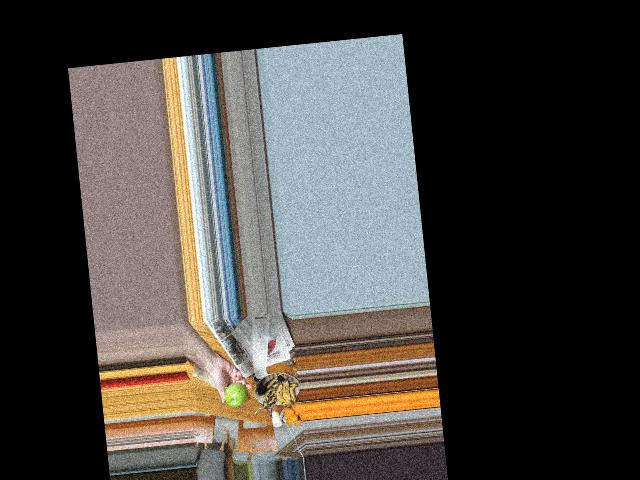apple: (220, 379, 250, 410)
